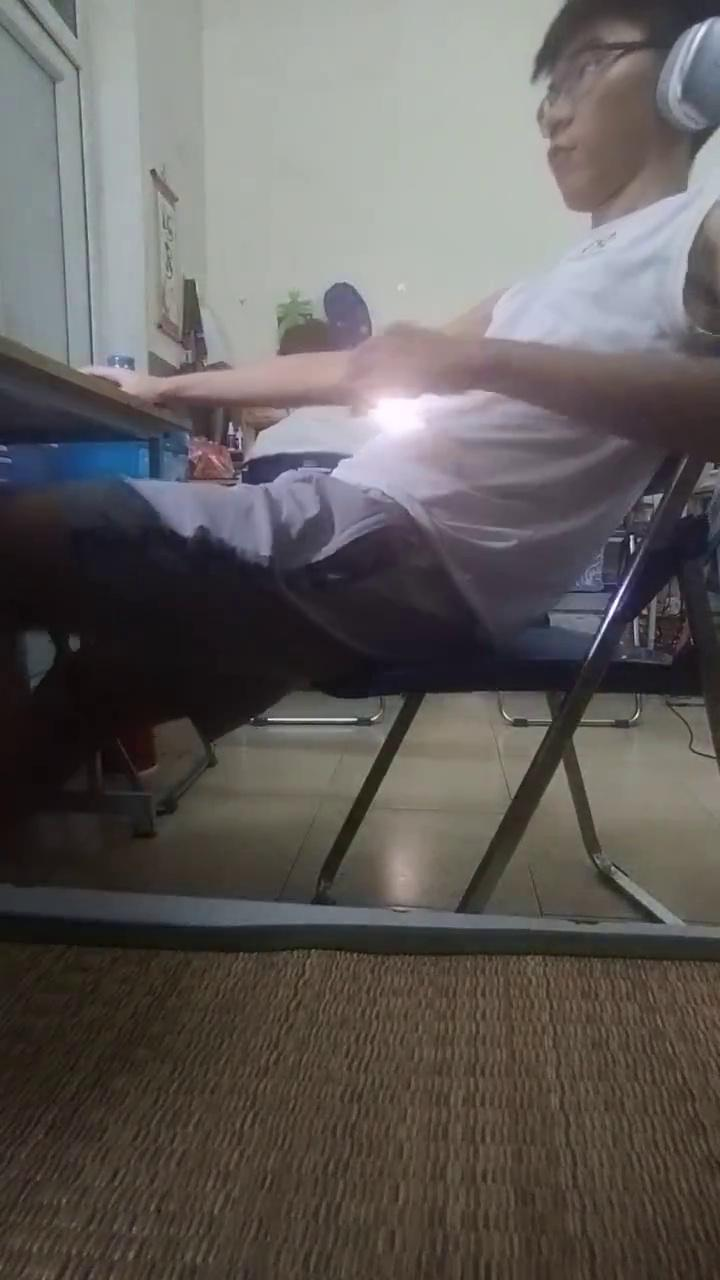BadPosture: (0, 0, 719, 828)
